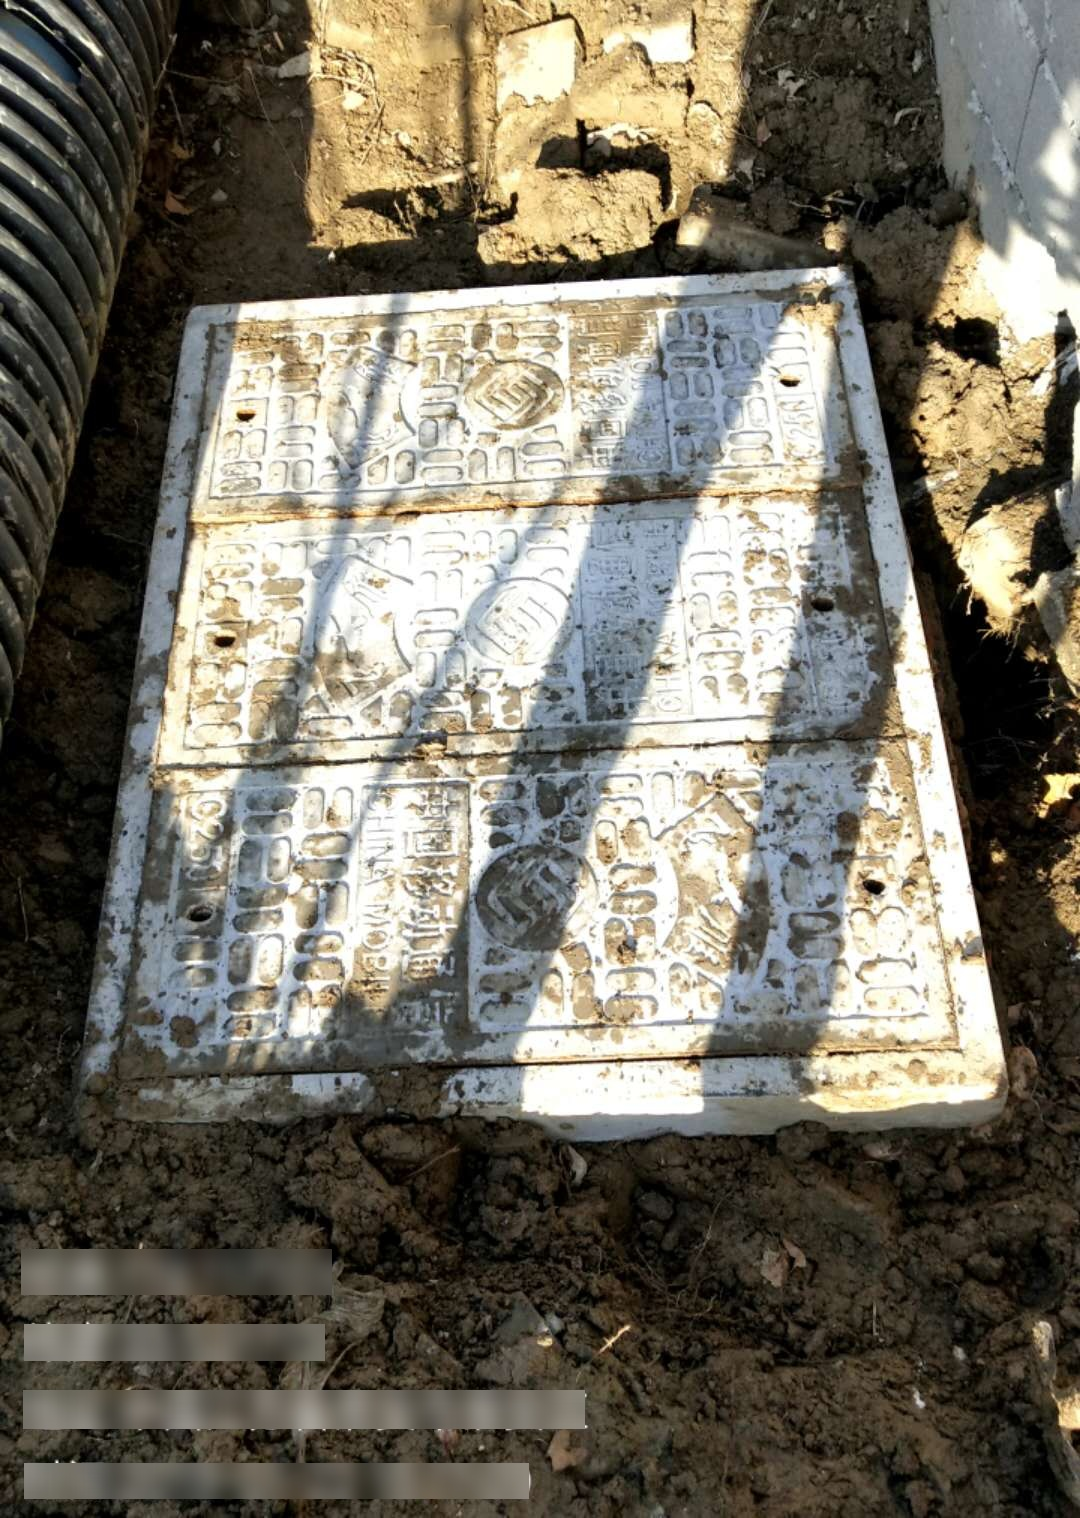well: (78, 252, 994, 1141)
